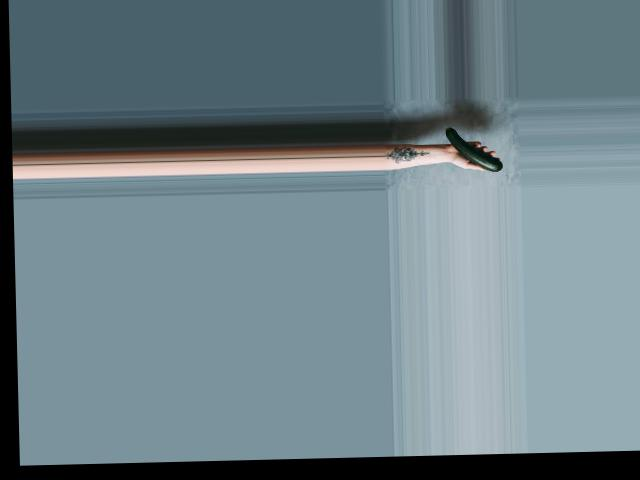cucumber: (446, 126, 503, 172)
